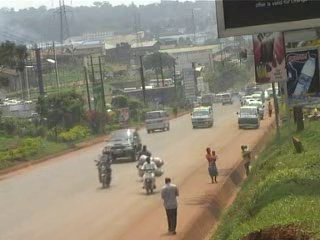Car: (101, 126, 146, 164)
Motorcycle: (92, 150, 114, 191), (138, 160, 159, 195), (136, 145, 160, 175)
